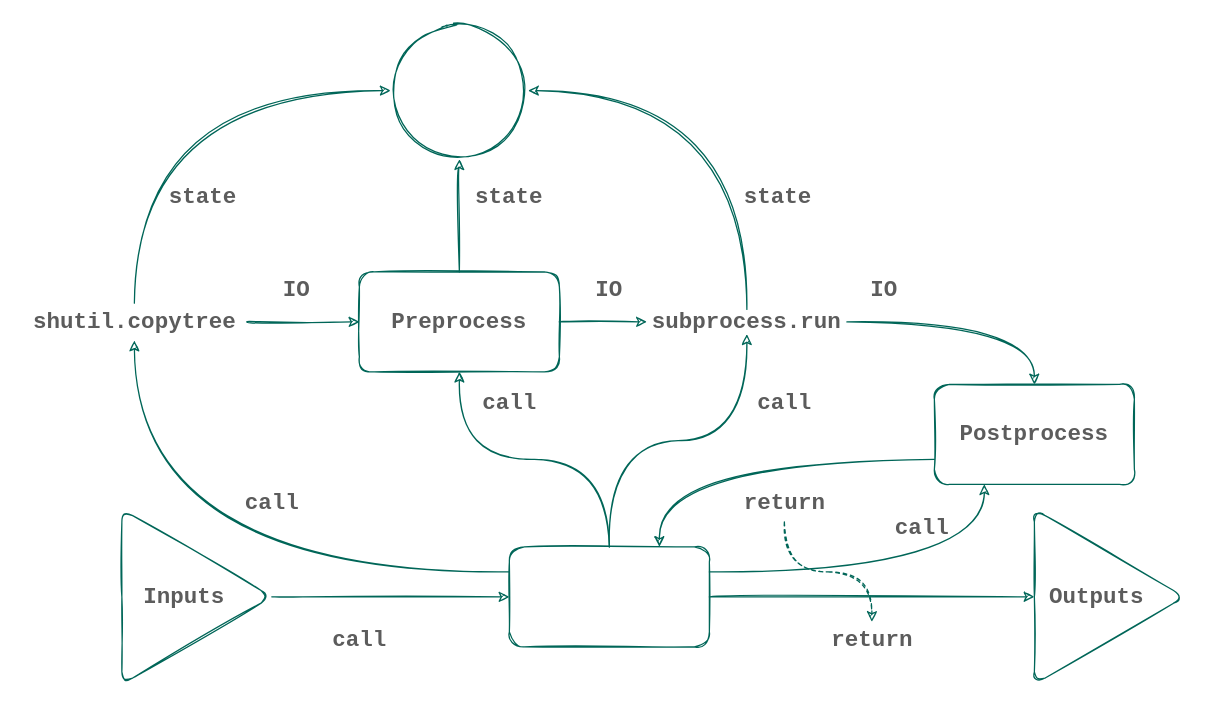
Image size: 1206x706. Some labels were removed from this diagram. The shapes that lost their labels are listed below. From the top down, each one's centre as x and y in pixels, then its label:
[458,90]: GEOtop object
[608,596]: Eval
